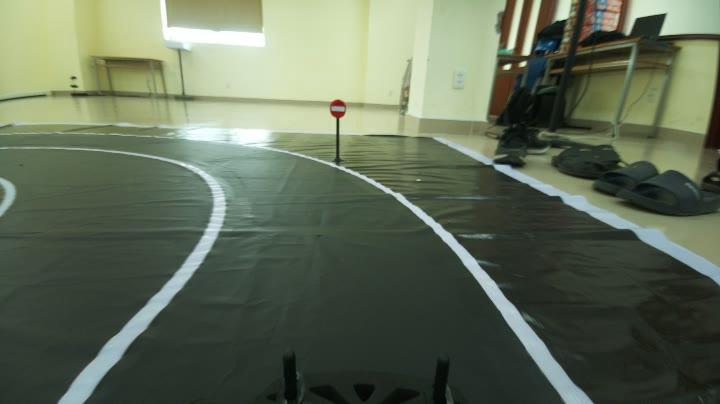no_entry: (321, 91, 353, 121)
